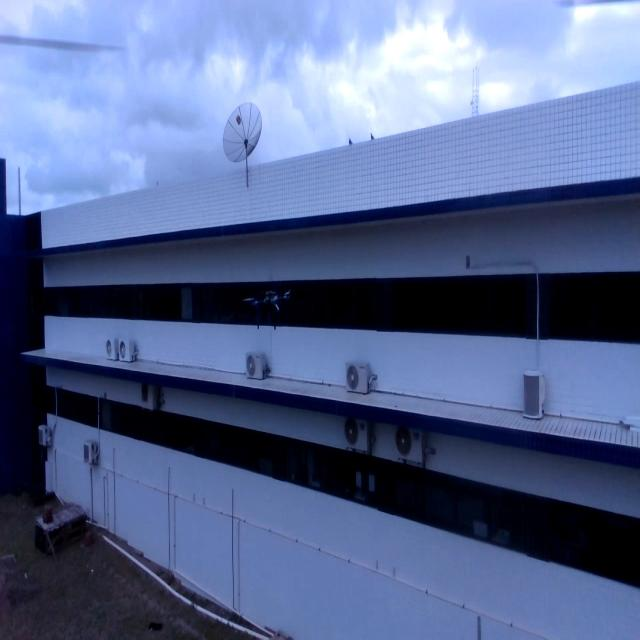-uav-: (244, 268, 294, 344)
